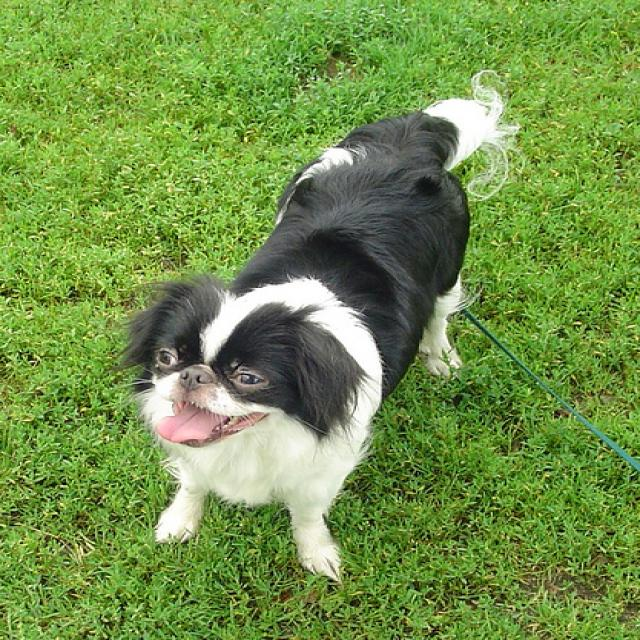dog-japanese_chin: (98, 61, 525, 589)
